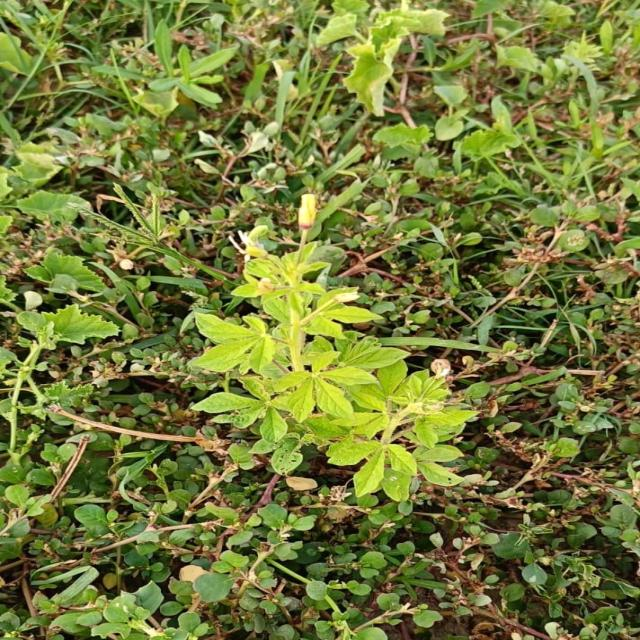weed: (191, 193, 476, 502)
